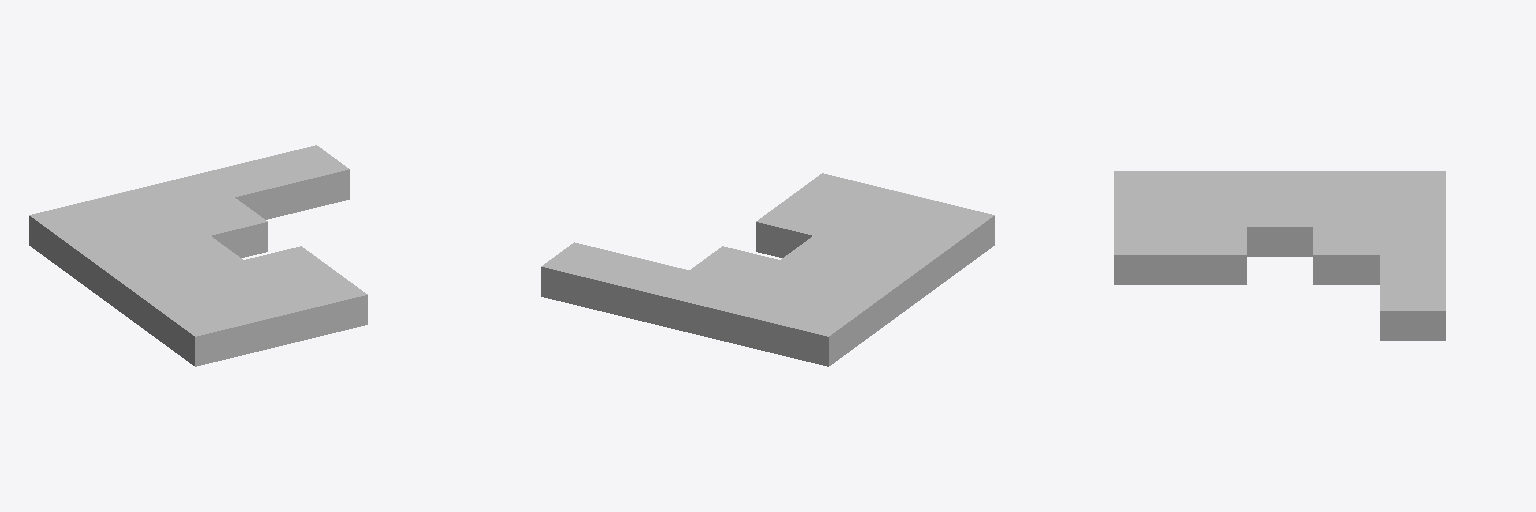
File: 66s_block.obj
The picture shows the model from 3 angles: view 1: azimuth 30°, elevation 25°; view 2: azimuth 150°, elevation 25°; view 3: azimuth 270°, elevation 25°; orthographic projection.
Parts seen in each view (by area): view 1: block.0.0_block.4761, block.2.0_block.4771, block.4.4_block.4777, block.1.0_block.4766, block.2.3_block.4774, block.3.4_block.4776, block.0.3_block.4764, block.0.4_block.4765, block.0.2_block.4763, block.0.1_block.4762, block.2.4_block.4775, block.1.1_block.4767 (+4 smaller); view 2: block.0.4_block.4765, block.4.4_block.4777, block.2.4_block.4775, block.1.4_block.4770, block.3.4_block.4776, block.2.1_block.4772, block.0.1_block.4762, block.0.0_block.4761, block.0.2_block.4763, block.0.3_block.4764, block.2.0_block.4771, block.1.1_block.4767 (+4 smaller); view 3: block.2.1_block.4772, block.2.3_block.4774, block.1.2_block.4768, block.2.0_block.4771, block.4.4_block.4777, block.0.1_block.4762, block.0.3_block.4764, block.1.1_block.4767, block.1.3_block.4769, block.0.0_block.4761, block.0.2_block.4763, block.0.4_block.4765 (+4 smaller).
Boxes of the visible parts, x1=… form: block.0.0_block.4761: x1=162, y1=298, x2=252, y2=366; block.2.0_block.4771: x1=277, y1=270, x2=367, y2=338; block.4.4_block.4777: x1=260, y1=145, x2=349, y2=213; block.1.0_block.4766: x1=220, y1=285, x2=309, y2=352; block.2.3_block.4774: x1=177, y1=198, x2=267, y2=257; block.3.4_block.4776: x1=202, y1=159, x2=291, y2=219; block.0.3_block.4764: x1=62, y1=226, x2=152, y2=293; block.0.4_block.4765: x1=29, y1=201, x2=119, y2=268; block.0.2_block.4763: x1=96, y1=250, x2=184, y2=317; block.0.1_block.4762: x1=129, y1=274, x2=218, y2=341; block.2.4_block.4775: x1=145, y1=173, x2=234, y2=210; block.1.1_block.4767: x1=187, y1=260, x2=276, y2=297; block.0.4_block.4765: x1=771, y1=298, x2=861, y2=366; block.4.4_block.4777: x1=541, y1=242, x2=631, y2=310; block.2.4_block.4775: x1=656, y1=270, x2=746, y2=338; block.1.4_block.4770: x1=714, y1=285, x2=803, y2=352; block.3.4_block.4776: x1=599, y1=257, x2=688, y2=324; block.2.1_block.4772: x1=756, y1=198, x2=846, y2=257; block.0.1_block.4762: x1=871, y1=226, x2=961, y2=293; block.0.0_block.4761: x1=904, y1=201, x2=994, y2=268; block.0.2_block.4763: x1=839, y1=250, x2=927, y2=317; block.0.3_block.4764: x1=805, y1=274, x2=894, y2=341; block.2.0_block.4771: x1=789, y1=173, x2=878, y2=210; block.1.1_block.4767: x1=814, y1=212, x2=903, y2=249; block.2.1_block.4772: x1=1180, y1=227, x2=1246, y2=284; block.2.3_block.4774: x1=1313, y1=227, x2=1379, y2=284; block.1.2_block.4768: x1=1247, y1=199, x2=1312, y2=256; block.2.0_block.4771: x1=1114, y1=227, x2=1179, y2=284; block.4.4_block.4777: x1=1380, y1=283, x2=1445, y2=340; block.0.1_block.4762: x1=1180, y1=171, x2=1246, y2=198; block.0.3_block.4764: x1=1313, y1=171, x2=1379, y2=198; block.1.1_block.4767: x1=1180, y1=199, x2=1246, y2=226; block.1.3_block.4769: x1=1313, y1=199, x2=1379, y2=226; block.0.0_block.4761: x1=1114, y1=171, x2=1179, y2=198; block.0.2_block.4763: x1=1247, y1=171, x2=1312, y2=198; block.0.4_block.4765: x1=1380, y1=171, x2=1445, y2=198.
Bounding box in the file's own units: 10 × 1 × 10.